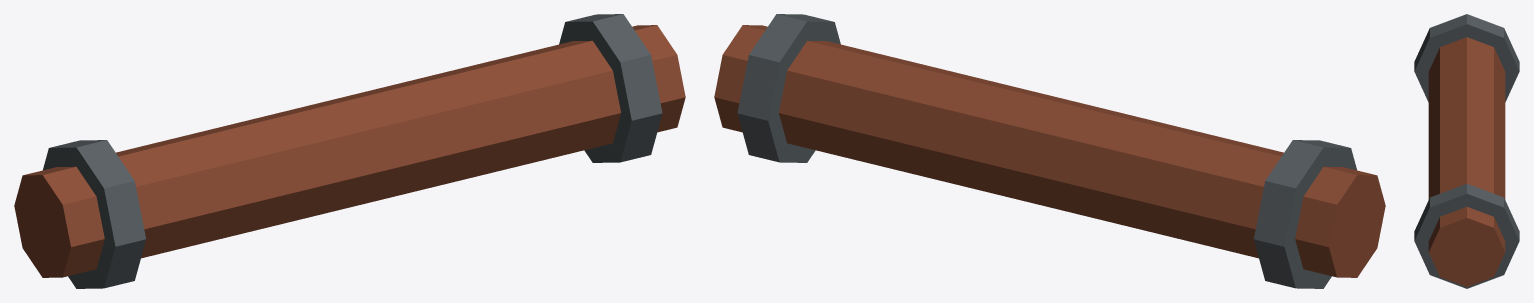
Rendered from kit_pipe.glb.
3 renders of one model, left to right at view 1: azimuth 30°, elevation 25°; view 2: azimuth 150°, elevation 25°; view 3: azimuth 270°, elevation 25°, orthographic. The views are drawn at different scales.
Visible parts, largest first — view 1: pipe, flange0.42, flange-0.42; view 2: pipe, flange0.42, flange-0.42; view 3: pipe, flange0.42, flange-0.42.
Part boxes in pixels (<box>): pipe: <box>14,25,685,277</box>; flange0.42: <box>559,14,662,162</box>; flange-0.42: <box>43,140,146,288</box>; pipe: <box>714,25,1385,277</box>; flange0.42: <box>737,14,840,162</box>; flange-0.42: <box>1253,140,1356,288</box>; pipe: <box>1428,37,1505,286</box>; flange0.42: <box>1414,183,1519,288</box>; flange-0.42: <box>1414,14,1519,102</box>.
Size of the model in its own units: 1 by 0.22 by 0.22.
